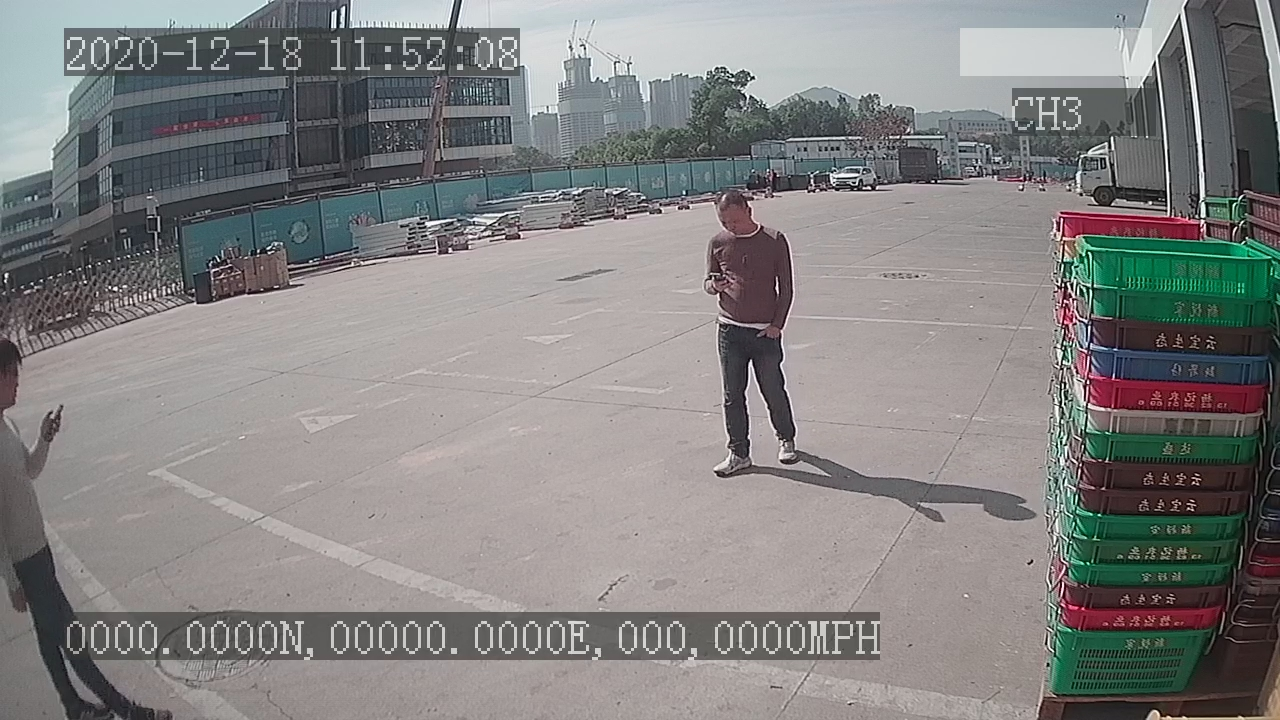person: (697, 188, 804, 486)
